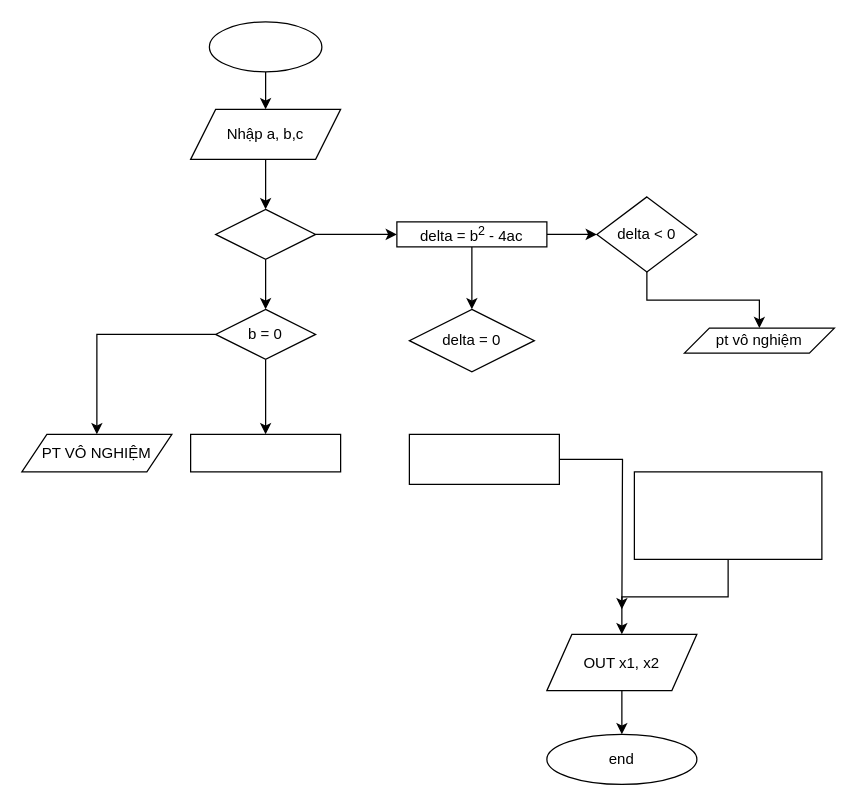
Image size: 856x806. Some labels were removed from this diagram. Here are the shapes that lost their labels. From the top down, the centre of each, then its label:
At (x=265, y=46): "START".
At (x=265, y=233): "a = 0".
At (x=265, y=452): "x = -b/2a".
At (x=483, y=458): "x 1 = x 2 = -b/2a".
At (x=727, y=515): "x 1 =(- b+ sqrt(delta))/2a x 2 =(- b-sqrt(delta))/2a".
